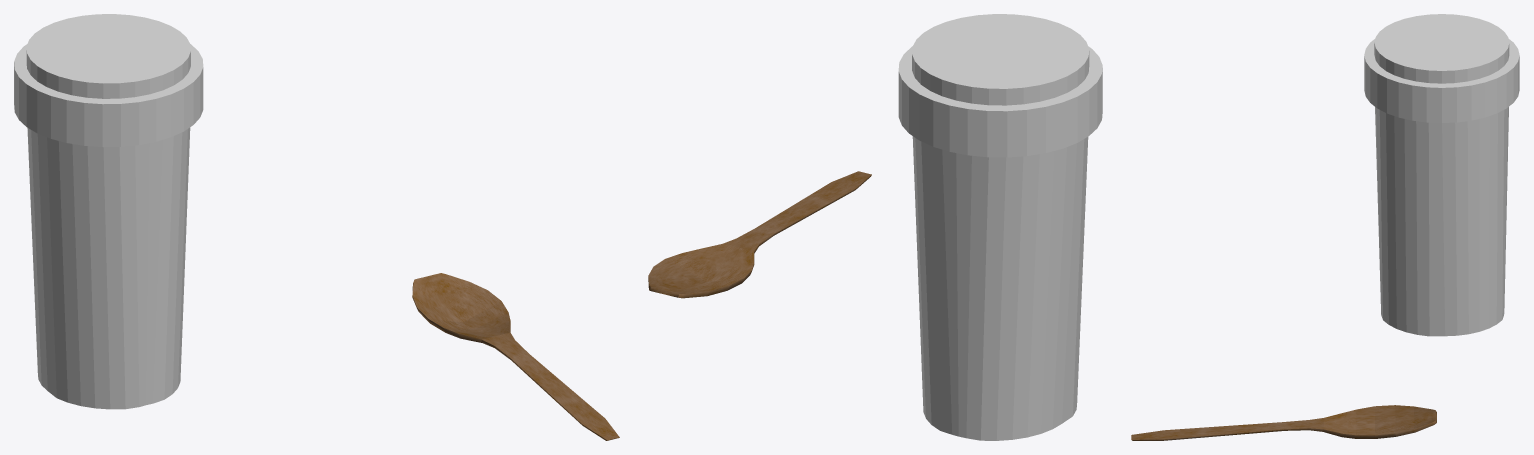
File: glass paper.fbx
3 views of the same model, side by side, from view 1: azimuth 30°, elevation 25°; view 2: azimuth 150°, elevation 25°; view 3: azimuth 270°, elevation 25° (orthographic). The views are drawn at different scales.
Parts seen in each view (by area): view 1: glass, spoon; view 2: glass, spoon; view 3: glass, spoon.
Part boxes in pixels (x1,y1,x2,y2): glass: (14,14,203,409); spoon: (412,273,619,440); glass: (898,14,1102,440); spoon: (648,171,871,298); glass: (1364,14,1519,336); spoon: (1131,405,1436,440).
Bounding box in the file's own units: 0.3558 × 0.2581 × 0.3365.
